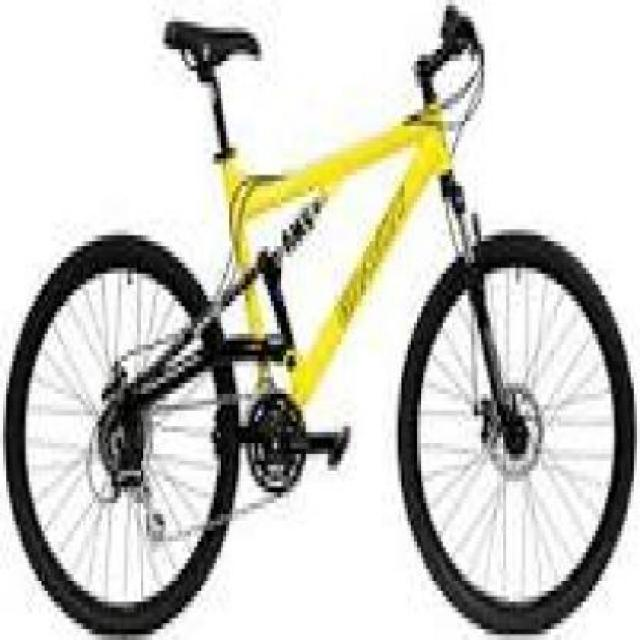bicycle: (1, 5, 640, 640)
